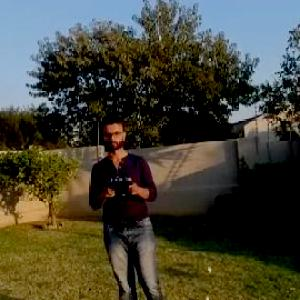follow: (85, 108, 171, 299)
